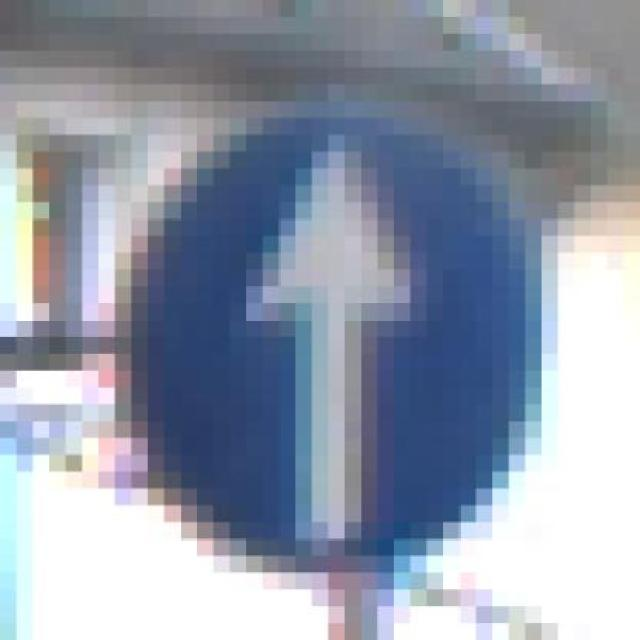Straight Ahead Only: (99, 84, 558, 590)
